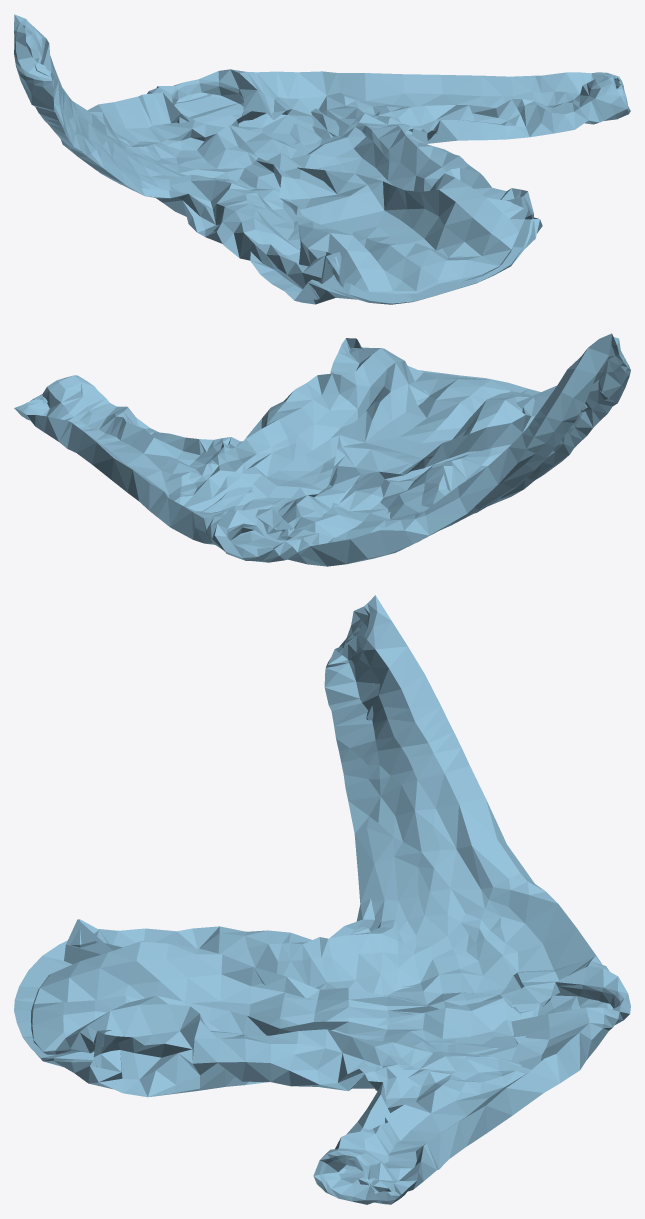
The model's file is frame_05.glb.
3 renders of one model, top to bottom at view 1: azimuth 30°, elevation 25°; view 2: azimuth 150°, elevation 25°; view 3: azimuth 270°, elevation 25°, orthographic. The views are drawn at different scales.
Visible parts, largest first — view 1: frame_05.obj; view 2: frame_05.obj; view 3: frame_05.obj.
Boxes of the visible parts, x1=… form: frame_05.obj: x1=14, y1=14, x2=630, y2=304; frame_05.obj: x1=14, y1=333, x2=630, y2=566; frame_05.obj: x1=14, y1=595, x2=630, y2=1204.
Bounding box in the file's own units: 1.86 × 0.7159 × 1.38.
